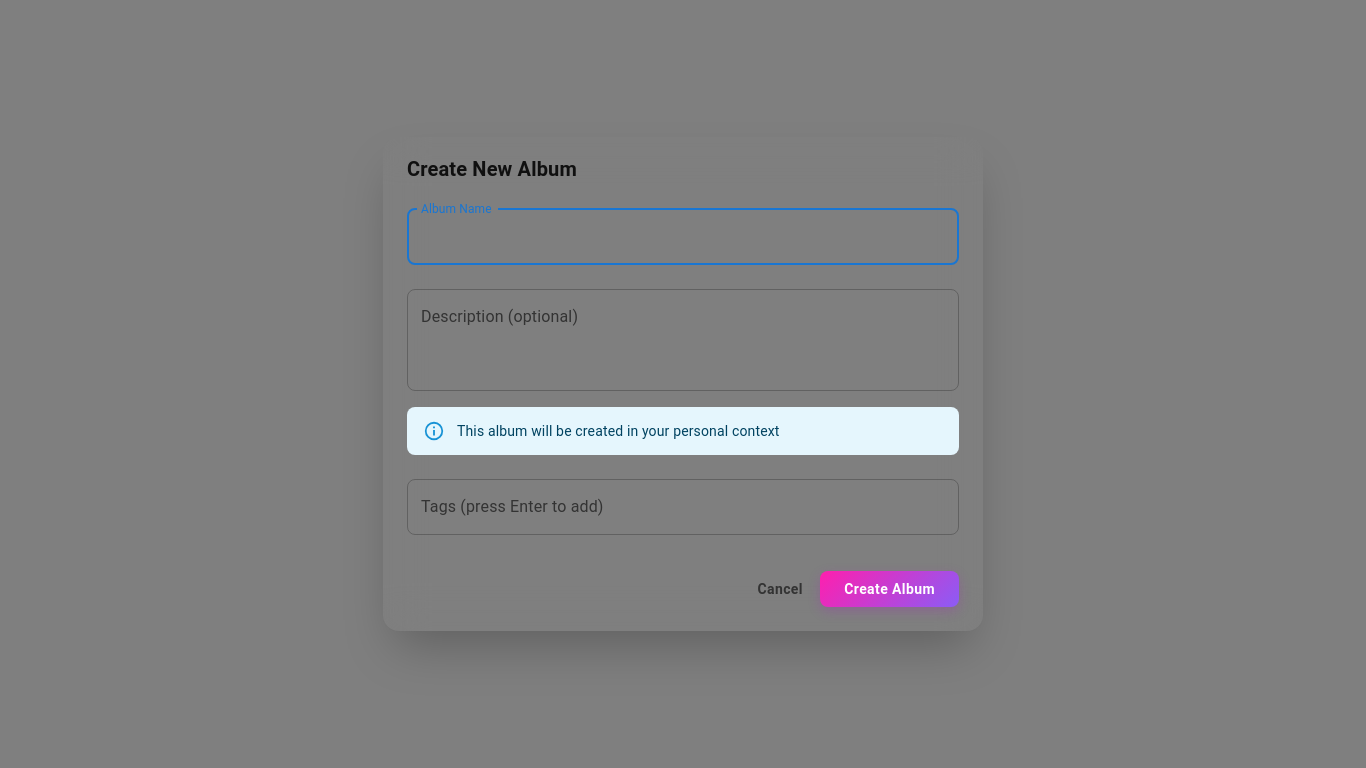
Test case: removes a tag when its chip delete icon is clicked
The width and height of the screenshot is (1366, 768).
Type "summer" into the field labelled "Tags (press Enter to add)" at {"x": 683, "y": 507}, box [407, 479, 959, 535]
Then press Enter
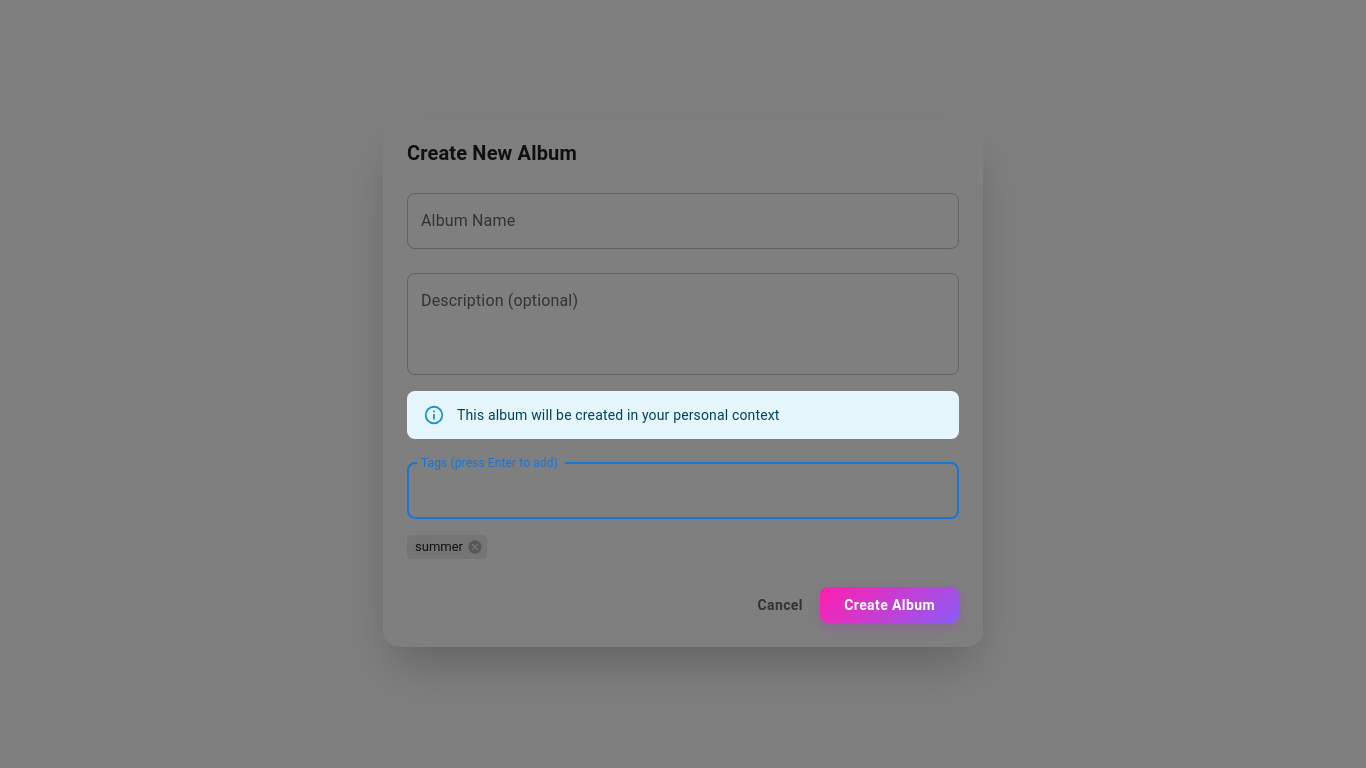
Expected: the text "summer" is shown, [415, 539, 463, 554]
Click the icon with test id "CancelIcon" at {"x": 475, "y": 547}, box [467, 539, 483, 555]
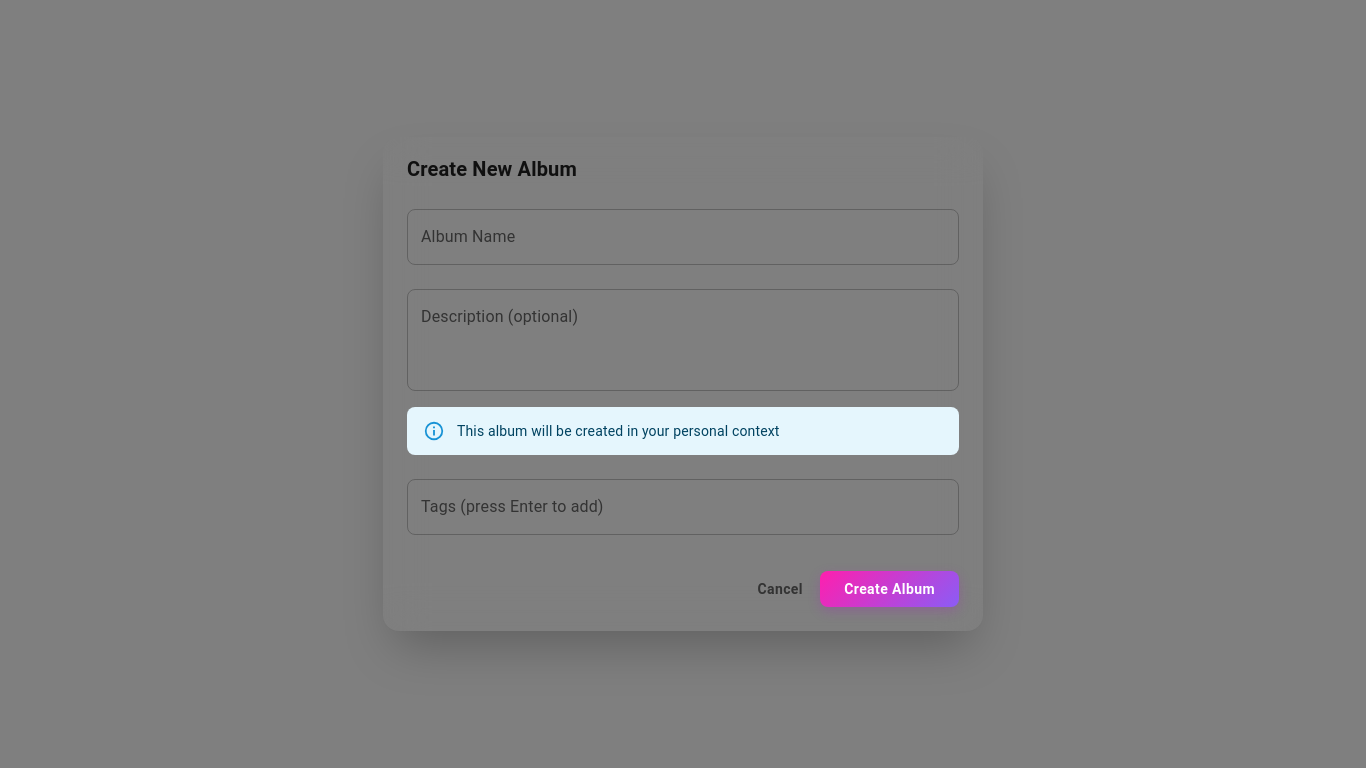
Expected: the button "summer" is gone
